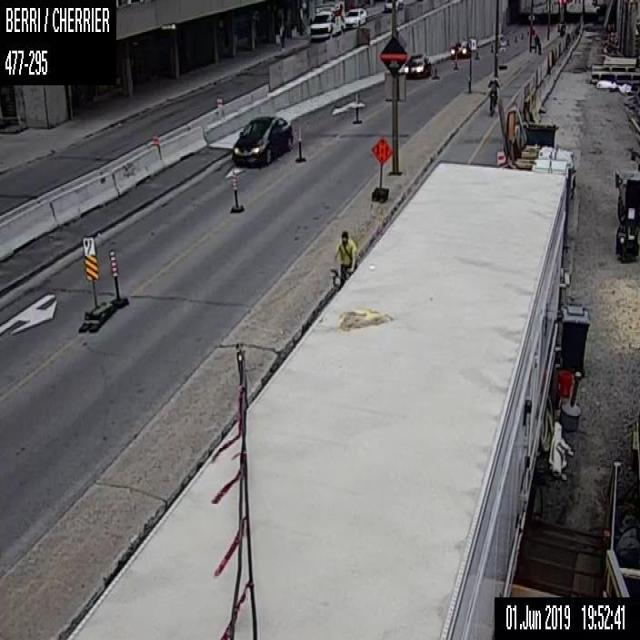construction: (370, 136, 392, 201), (108, 250, 120, 302), (231, 171, 238, 206), (297, 126, 301, 158), (355, 92, 358, 121), (475, 47, 478, 58), (434, 60, 436, 76), (506, 38, 509, 46), (454, 57, 456, 68), (514, 33, 516, 42), (490, 45, 492, 52)
cyclist: (331, 228, 356, 291), (487, 70, 499, 114), (532, 32, 540, 53)
vehicle: (231, 115, 292, 168), (615, 168, 639, 262), (309, 1, 344, 42), (403, 52, 430, 77), (344, 8, 366, 27), (449, 40, 468, 58), (384, 0, 402, 11), (520, 32, 522, 38)
